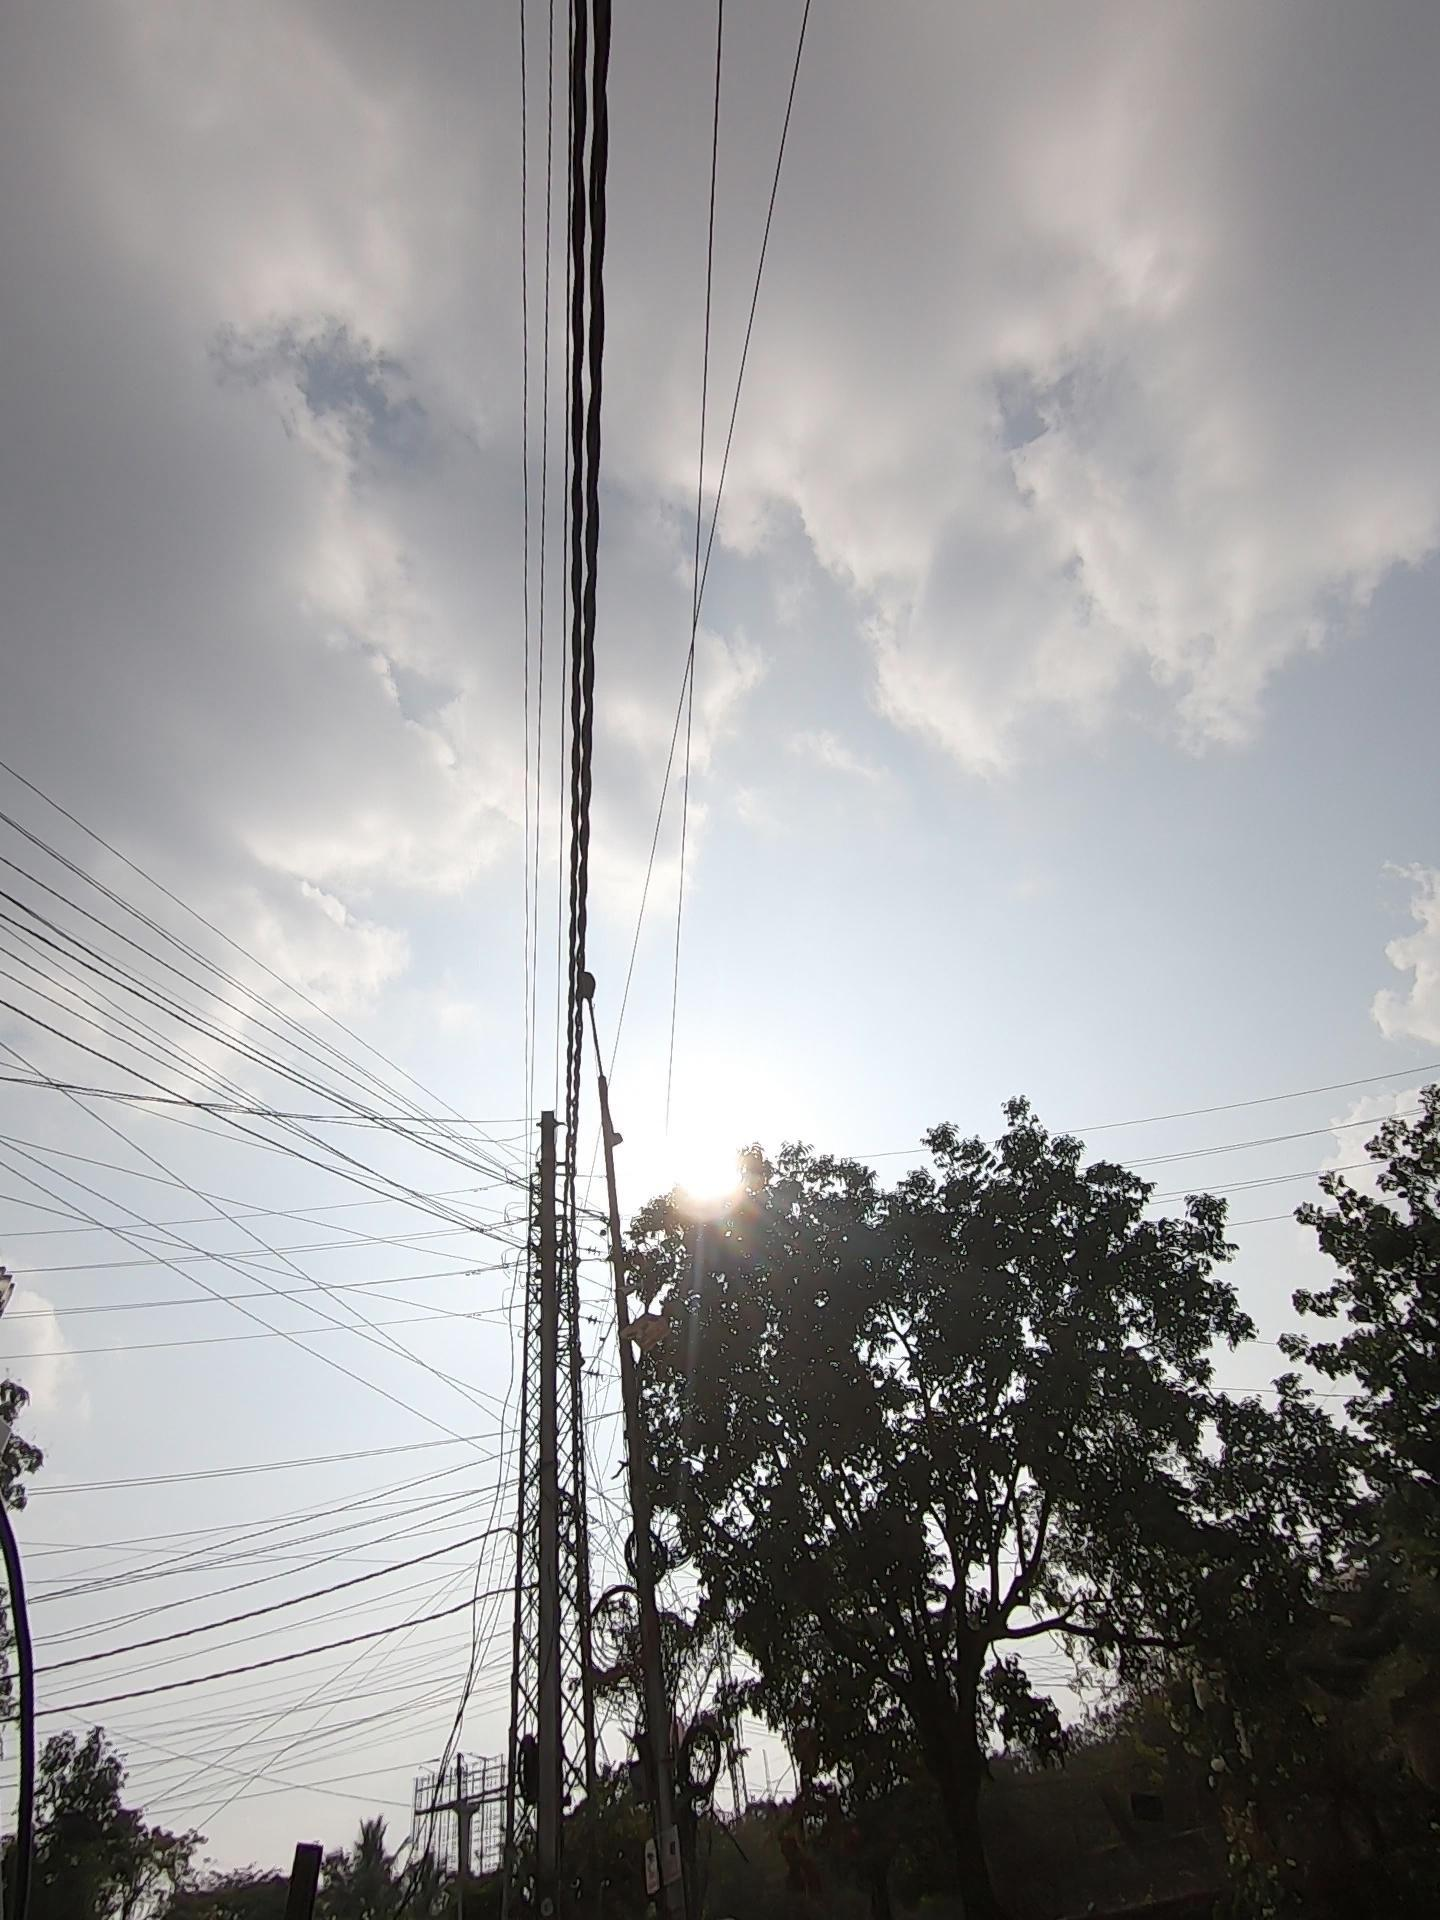off: (514, 847, 664, 1312)
